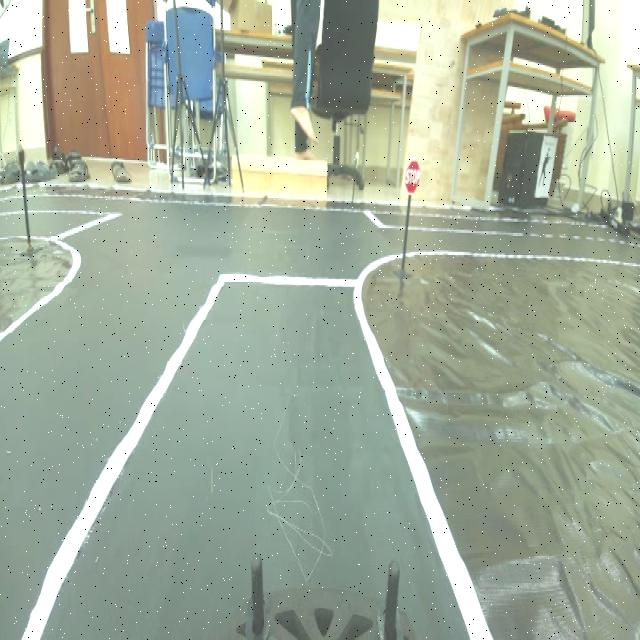stop: (394, 150, 428, 197)
